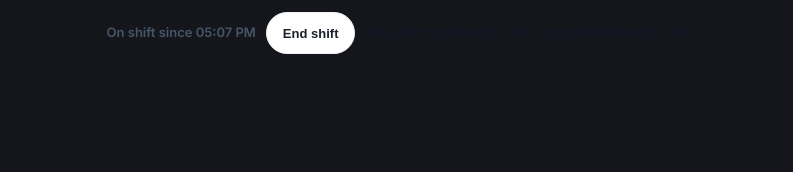
Test: ShiftBar › reloads the totals when the bills change, and clears an old refusal
This screenshot has width=793, height=172.
Later steps or results of the test are not shown.
Click the button "End shift" at [311, 33], box [266, 12, 356, 54]
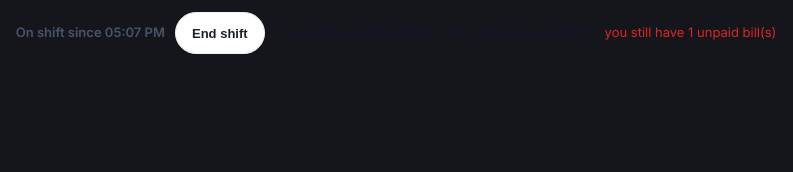
Expected: the message "you still have 1 unpaid bill(s)" is shown, [605, 23, 776, 43]
